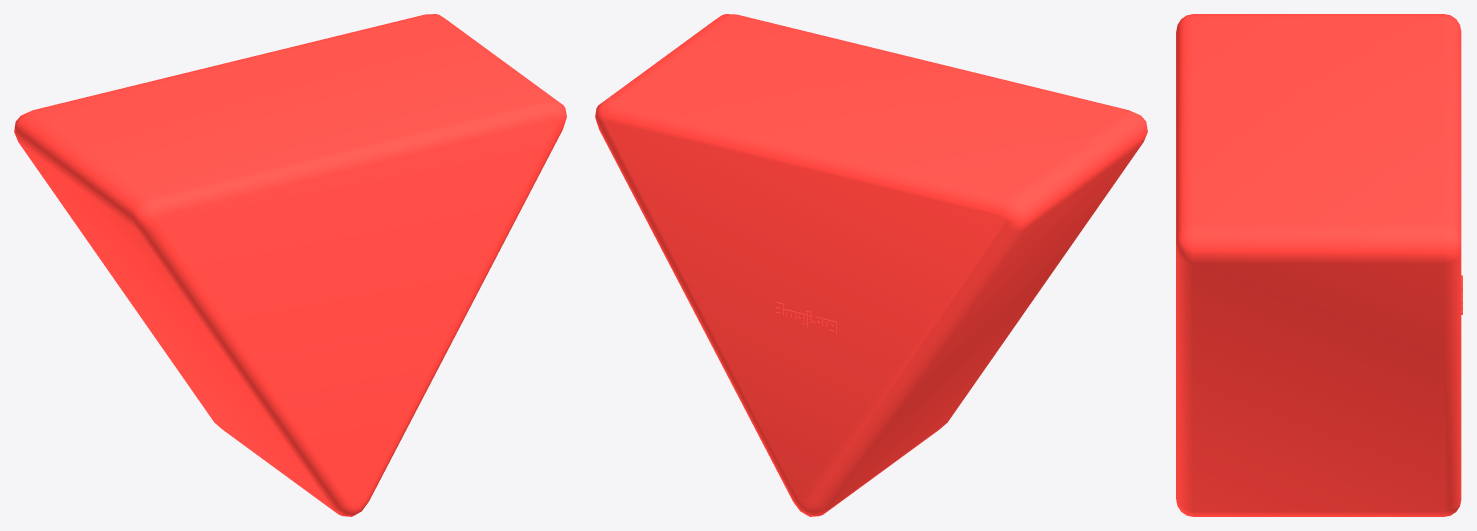
The model's file is red_triangle_pointed_down.gltf.
The picture shows the model from 3 angles, left to right: view 1: azimuth 30°, elevation 25°; view 2: azimuth 150°, elevation 25°; view 3: azimuth 270°, elevation 25°; orthographic projection. The views are drawn at different scales.
Parts seen in each view (by area): view 1: Cube.6670; view 2: Cube.6670; view 3: Cube.6670.
Boxes of the visible parts, x1,y1,x2,y2 form: Cube.6670: [14, 14, 566, 516]; Cube.6670: [595, 14, 1147, 516]; Cube.6670: [1176, 14, 1462, 516].
Size of the model in its own units: 1.88 by 1.53 by 1.01.
Materials: 1 (1 with a texture image).
